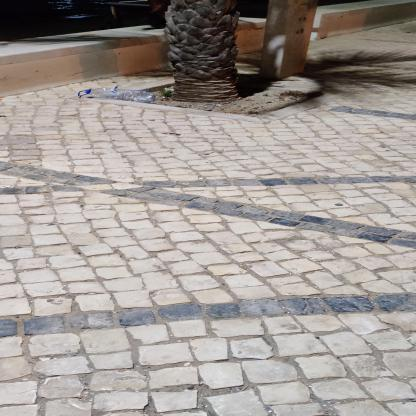Cigarette: (232, 141, 239, 143), (254, 109, 260, 110)
Clear plastic bottle: (78, 87, 155, 103)
